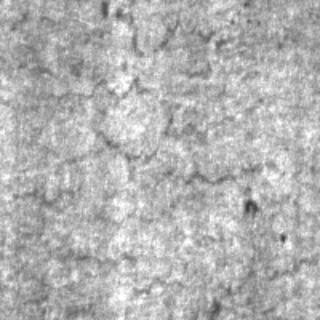crazing: (36, 198, 312, 298), (48, 75, 278, 188), (90, 0, 260, 78)
